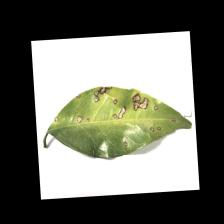canker: (70, 84, 181, 132)
